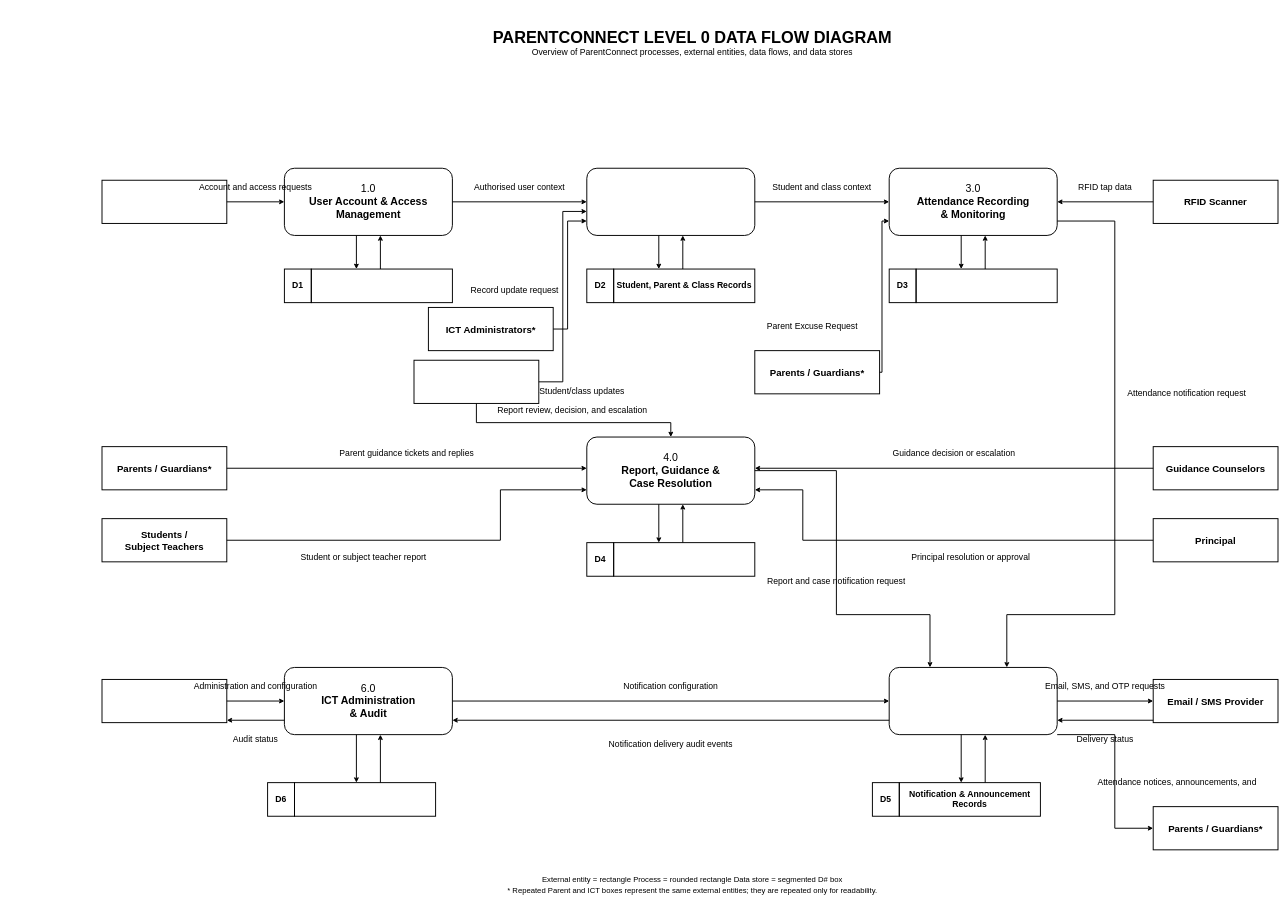
Image size: 1286x904. Some labels were removed from this diagram. Here are the shapes that lost their labels. From the top down, the centre of each, then its label:
At [164,202]: "Parents / Guardians".
At [670,202]: "2.0 Student, Parent & Class Records".
At [382,285]: "User & Role Records".
At [986,285]: "Attendance Records".
At [476,382]: "Advisers".
At [684,559]: "Report & Guidance Case Records".
At [164,701]: "ICT Administrators".
At [972,701]: "5.0 Notification & Announcement Management".
At [365,799]: "ICT Administration & Audit Records".
